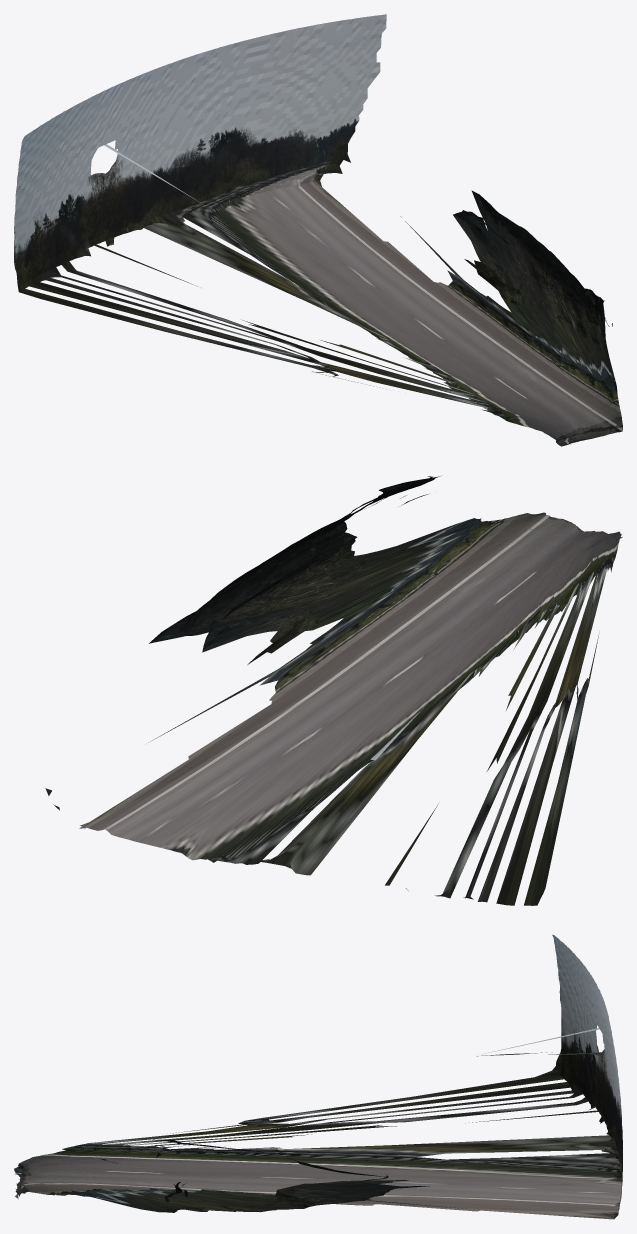
3 renders of one model, top to bottom at view 1: azimuth 30°, elevation 25°; view 2: azimuth 150°, elevation 25°; view 3: azimuth 270°, elevation 25°, orthographic. The views are drawn at different scales.
Parts seen in each view (by area): view 1: defaultobject; view 2: defaultobject; view 3: defaultobject.
Boxes of the visible parts, x1=… form: defaultobject: x1=14, y1=14, x2=622, y2=446; defaultobject: x1=45, y1=476, x2=622, y2=905; defaultobject: x1=14, y1=934, x2=622, y2=1219.
Size of the model in its own units: 29.81 by 12.27 by 44.49.
1 material, 1 textured.
